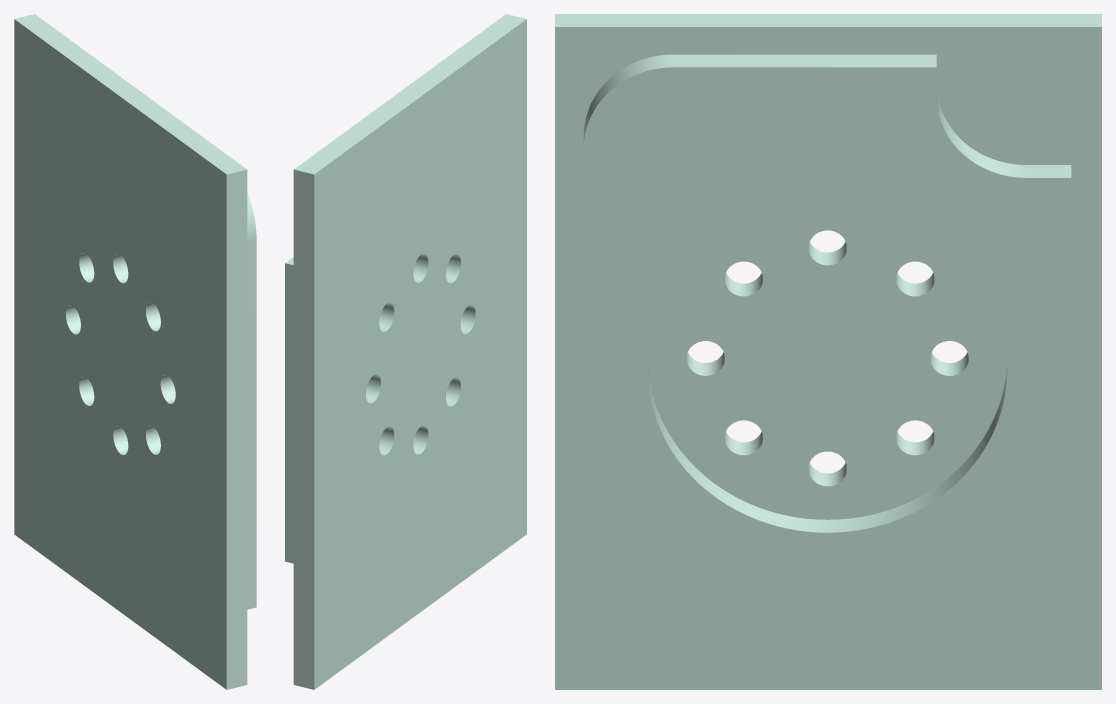
3 views of the same model, side by side, from view 1: azimuth 30°, elevation 25°; view 2: azimuth 150°, elevation 25°; view 3: azimuth 270°, elevation 25° (orthographic). The views are drawn at different scales.
Parts seen in each view (by area): view 1: Renderer Node; view 2: Renderer Node; view 3: Renderer Node.
Boxes of the visible parts, x1,y1,x2,y2 form: Renderer Node: [14, 14, 256, 689]; Renderer Node: [285, 14, 526, 689]; Renderer Node: [555, 14, 1101, 689].
Size of the model in its own units: 0.125 by 1.5 by 1.12.
